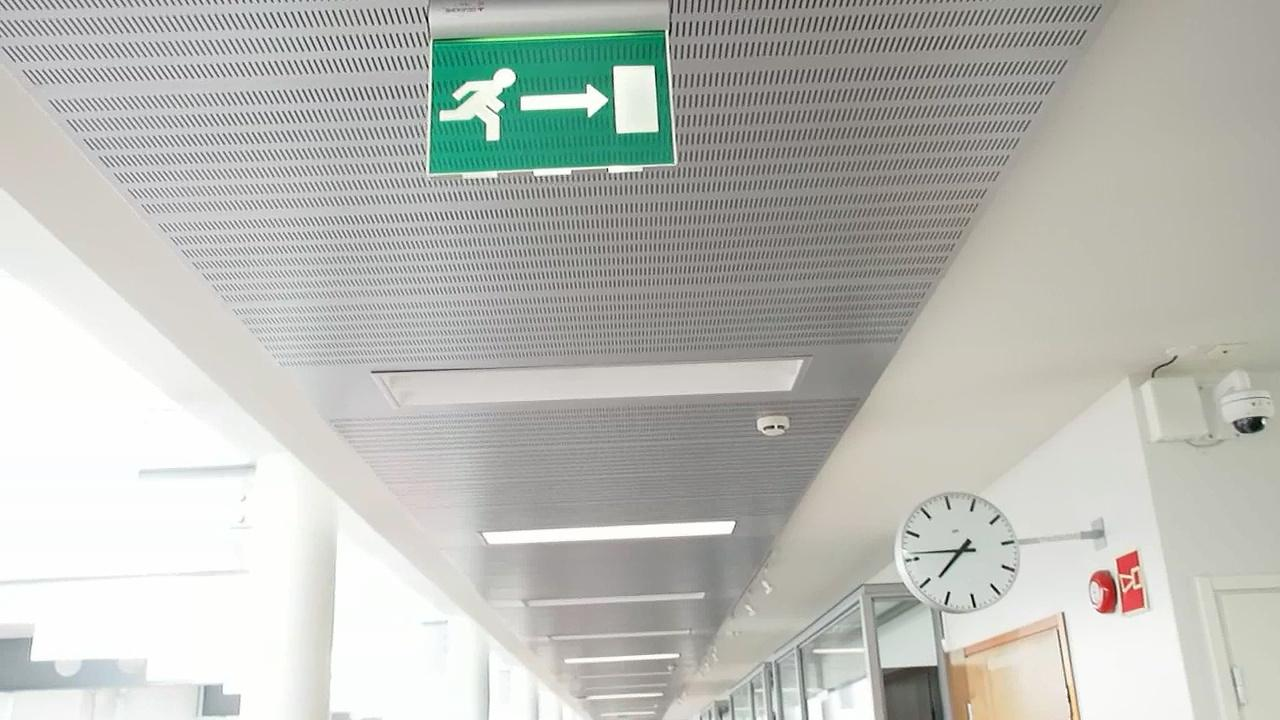clock: (898, 496, 1033, 621)
exit: (426, 29, 677, 171)
